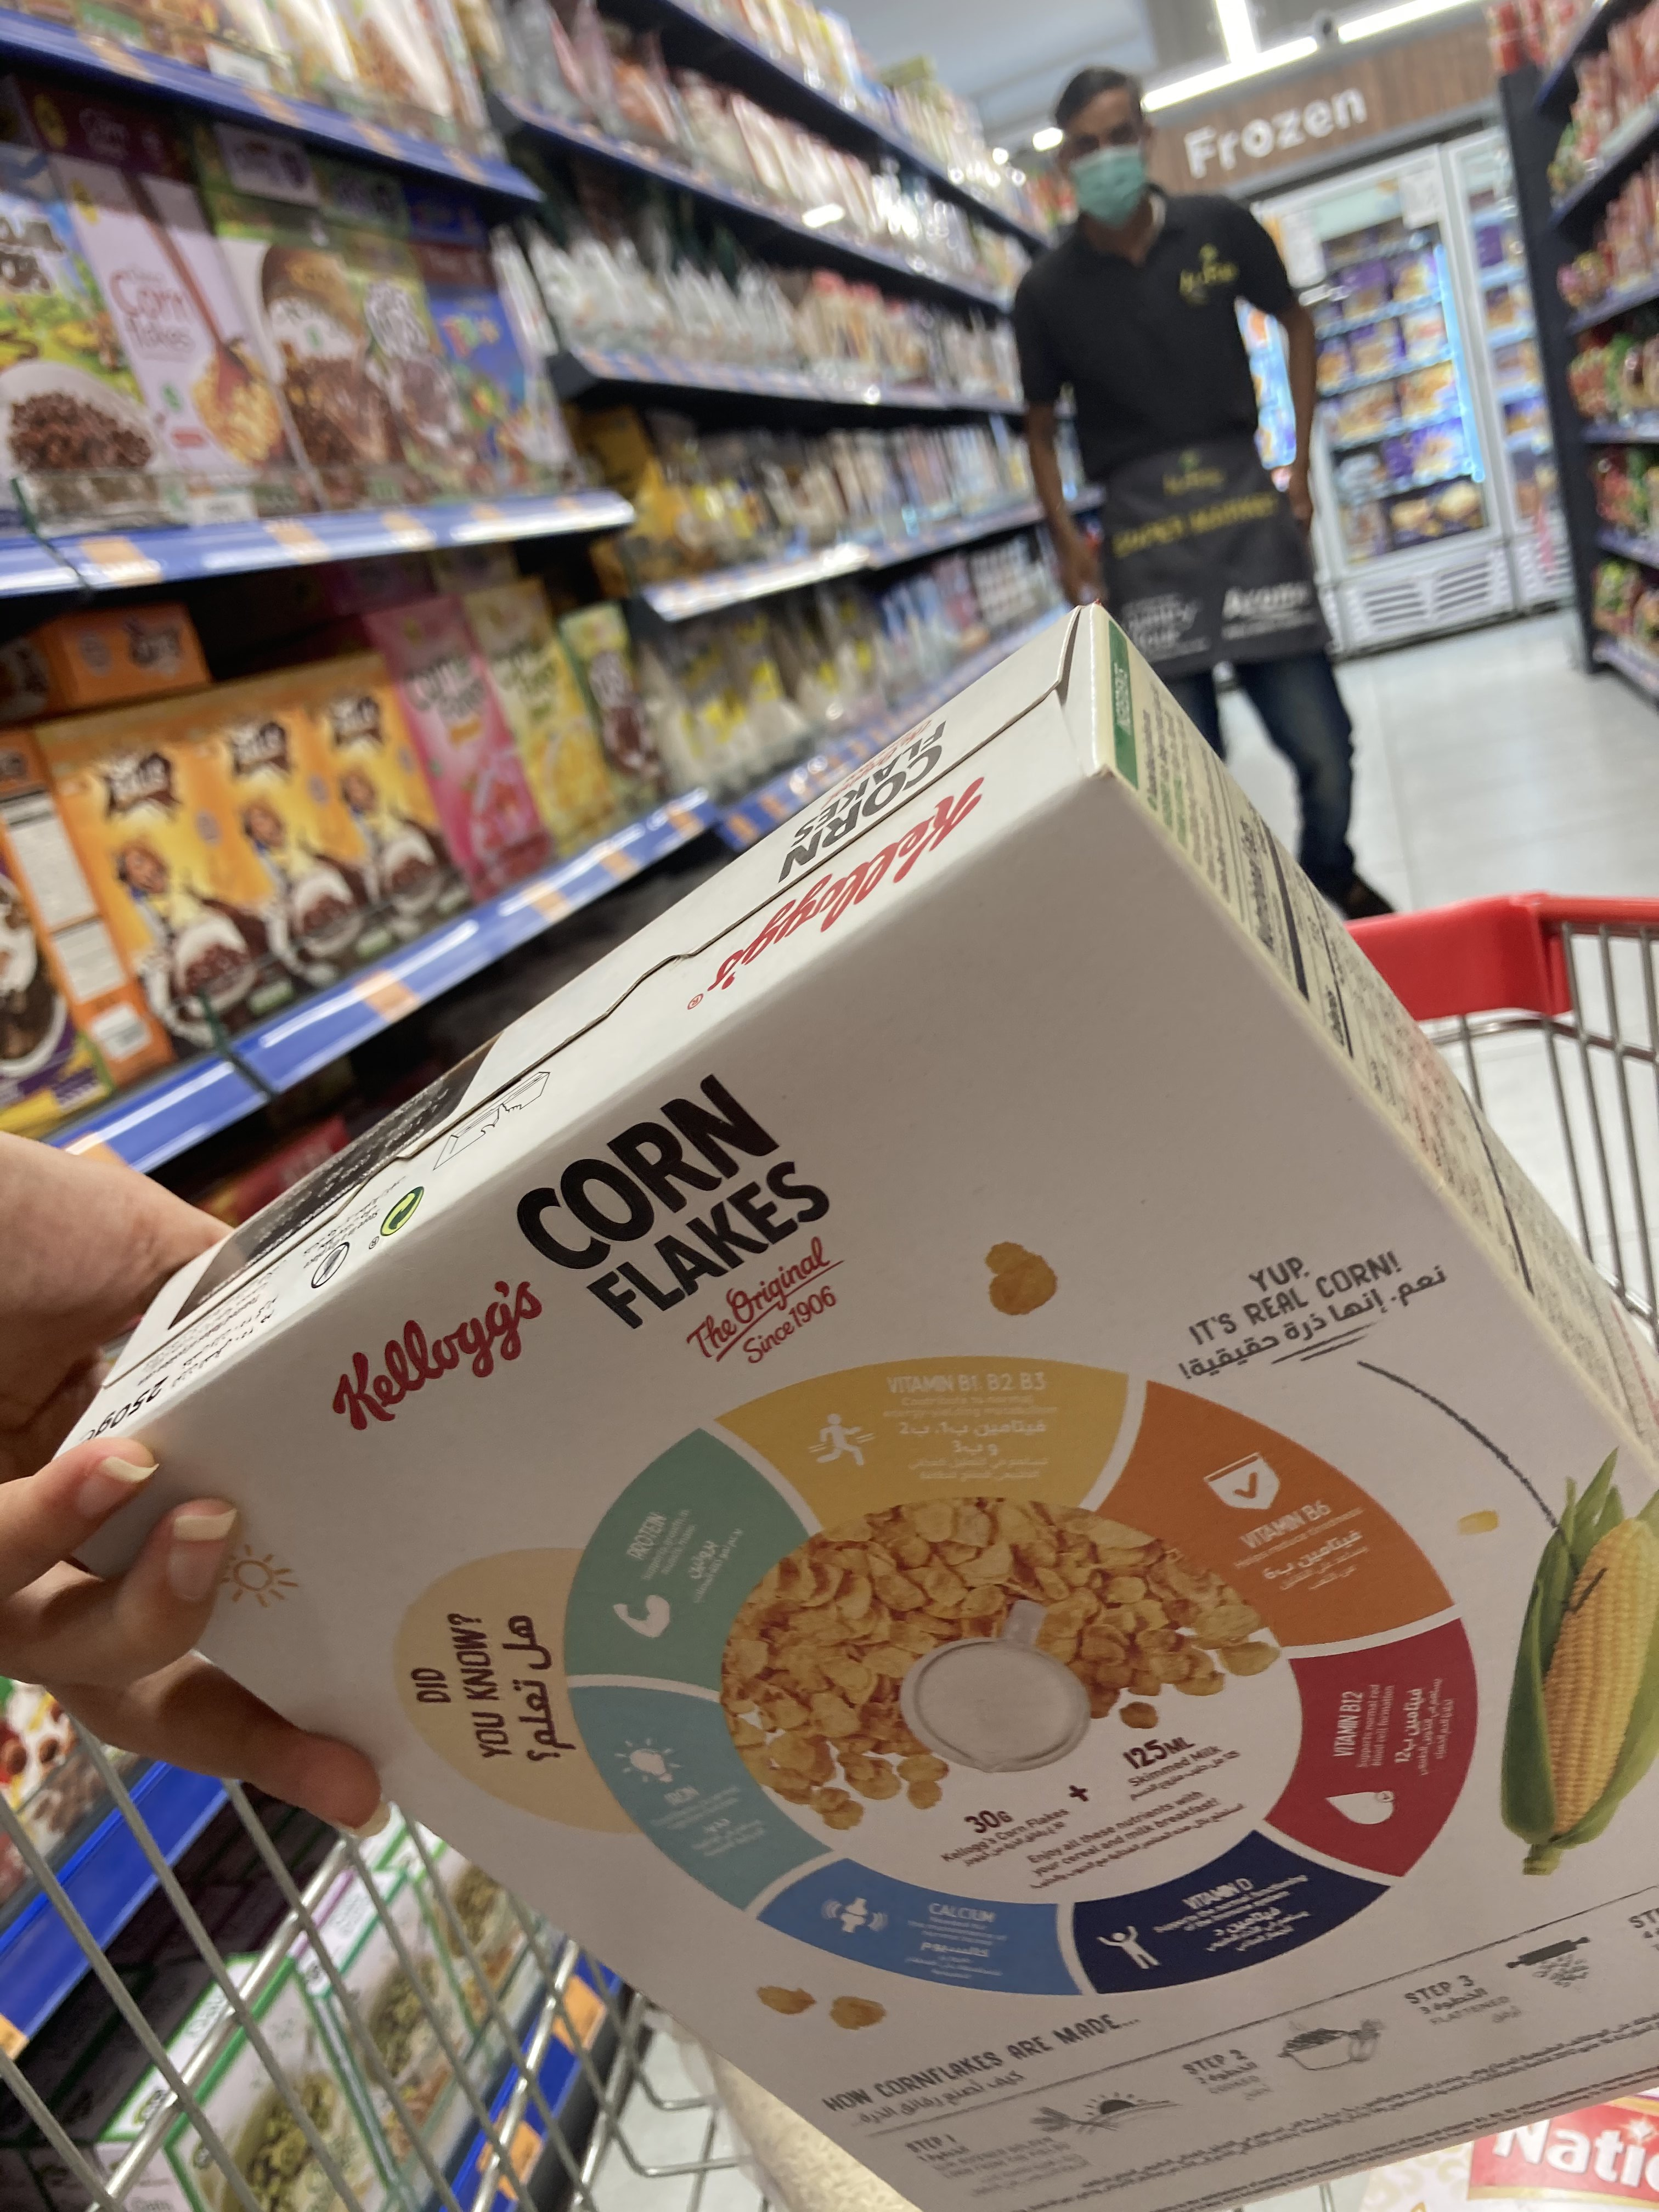Kellogg's Corn Flakes: (33, 596, 1659, 2212)
